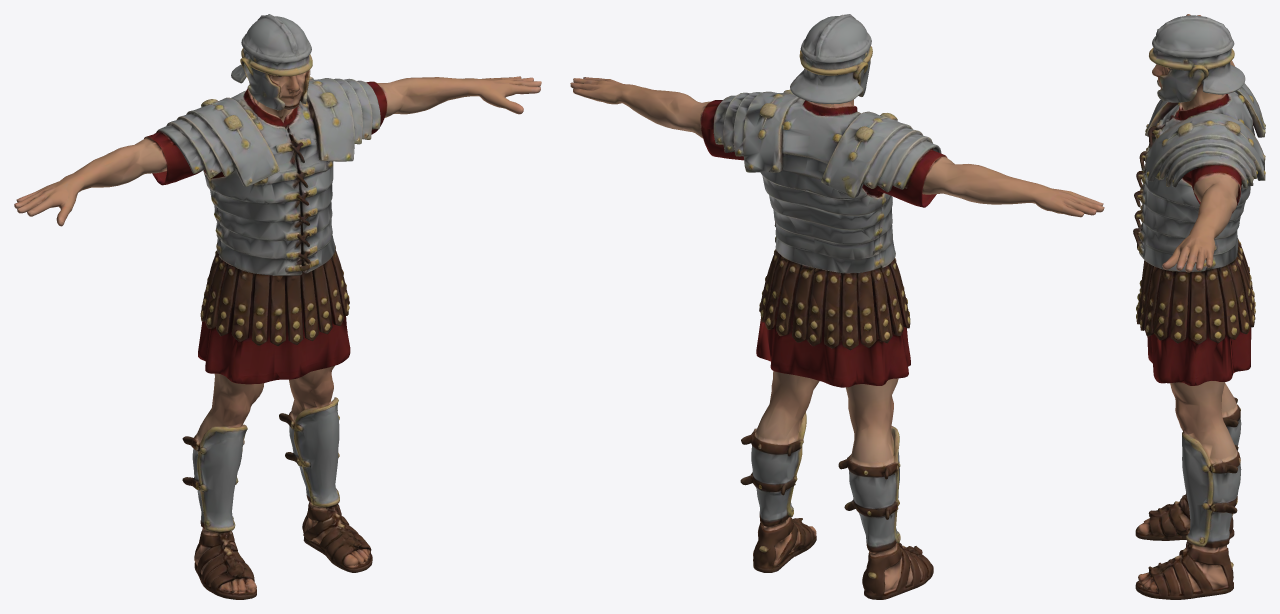
Rendered from gladiator.glb.
3 views of the same model, side by side, from view 1: azimuth 30°, elevation 25°; view 2: azimuth 150°, elevation 25°; view 3: azimuth 270°, elevation 25° (orthographic).
Visible parts, largest first — view 1: tripo_node_1b30f038-d24e-4318-af98-1feefb99656a; view 2: tripo_node_1b30f038-d24e-4318-af98-1feefb99656a; view 3: tripo_node_1b30f038-d24e-4318-af98-1feefb99656a.
Part boxes in pixels (x1,y1,x2,y2): tripo_node_1b30f038-d24e-4318-af98-1feefb99656a: (14, 14, 541, 599); tripo_node_1b30f038-d24e-4318-af98-1feefb99656a: (570, 14, 1104, 599); tripo_node_1b30f038-d24e-4318-af98-1feefb99656a: (1133, 14, 1265, 599).
Size of the model in its own units: 1.76 by 1.76 by 0.3878.
1 material, 1 textured.
